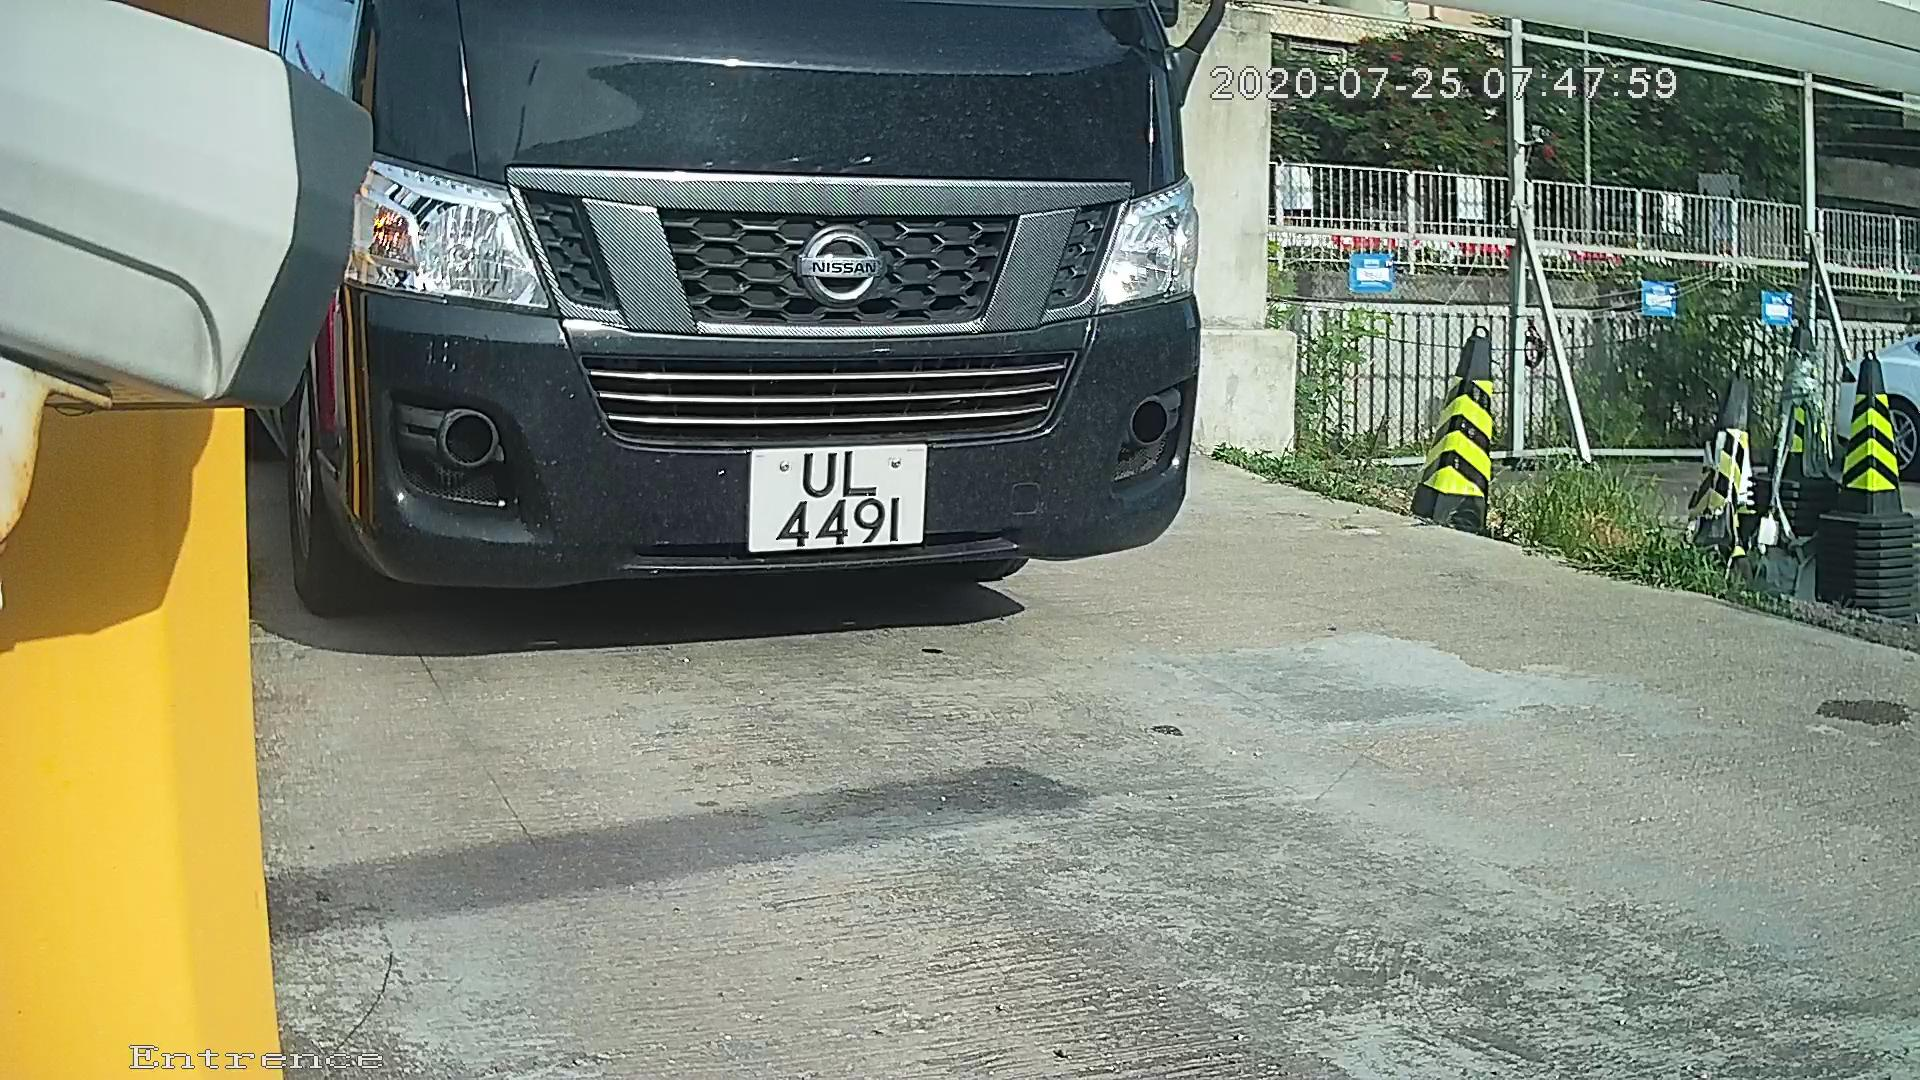Car: (69, 5, 1355, 680)
License Plate: (729, 434, 952, 560)
